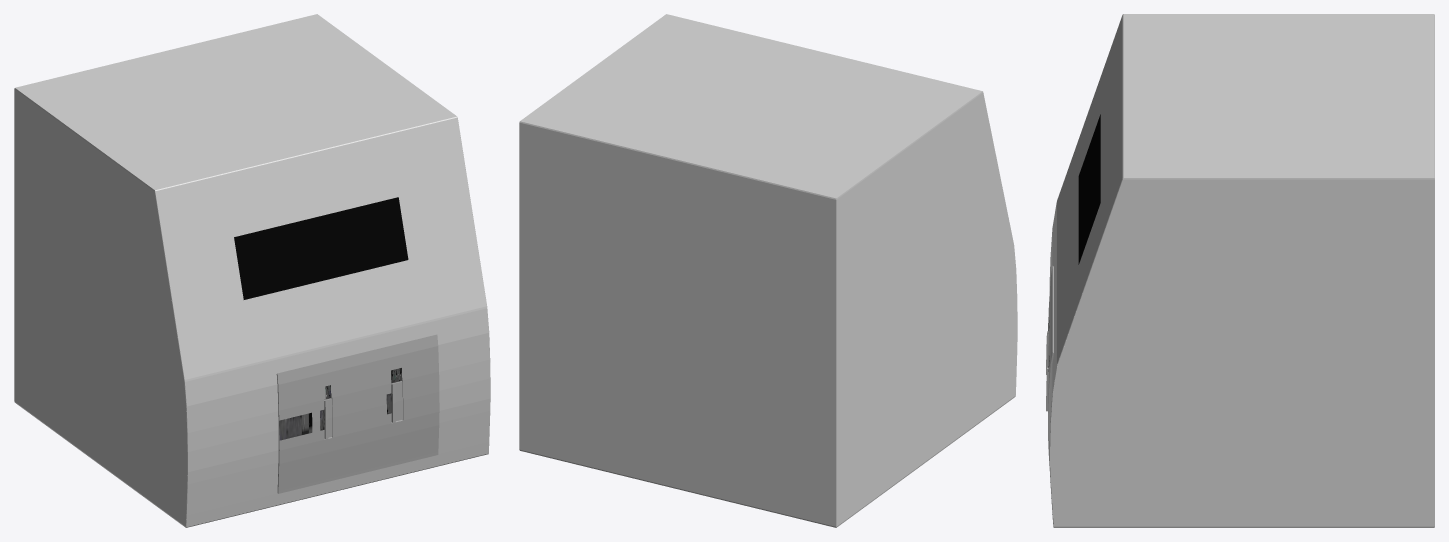
Rendered from sh-scopia-kitchen-hood.glb.
3 renders of one model, left to right at view 1: azimuth 30°, elevation 25°; view 2: azimuth 150°, elevation 25°; view 3: azimuth 270°, elevation 25°, orthographic. The views are drawn at different scales.
Visible parts, largest first — view 1: hood_Cube_hood_Cube_frontMetal, hood_Cube_hood_Cube_base, hood_Cube_hood_Cube_controls, components_Cube.003; view 2: hood_Cube_hood_Cube_base, hood_Cube_hood_Cube_frontMetal; view 3: hood_Cube_hood_Cube_base, hood_Cube_hood_Cube_frontMetal, components_Cube.003, hood_Cube_hood_Cube_controls.
Part boxes in pixels (left/top/right/bottom): hood_Cube_hood_Cube_frontMetal: left=14, top=14, right=490, bottom=527; hood_Cube_hood_Cube_base: left=14, top=89, right=457, bottom=527; hood_Cube_hood_Cube_controls: left=276, top=334, right=439, bottom=493; components_Cube.003: left=234, top=197, right=408, bottom=440; hood_Cube_hood_Cube_base: left=519, top=93, right=1017, bottom=527; hood_Cube_hood_Cube_frontMetal: left=520, top=14, right=983, bottom=199; hood_Cube_hood_Cube_base: left=1050, top=14, right=1434, bottom=527; hood_Cube_hood_Cube_frontMetal: left=1049, top=14, right=1434, bottom=527; components_Cube.003: left=1048, top=114, right=1100, bottom=371; hood_Cube_hood_Cube_controls: left=1046, top=266, right=1053, bottom=470.
Bounding box in the file's own units: 1 × 1 × 1.
Materials: 5 (1 with a texture image).
